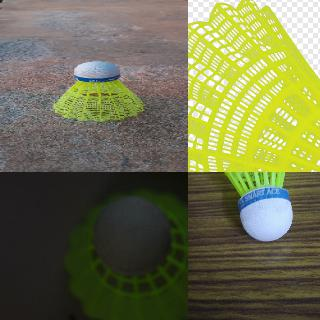shuttlecock: (188, 0, 319, 171), (65, 189, 187, 319), (195, 172, 300, 240), (53, 61, 147, 120)
